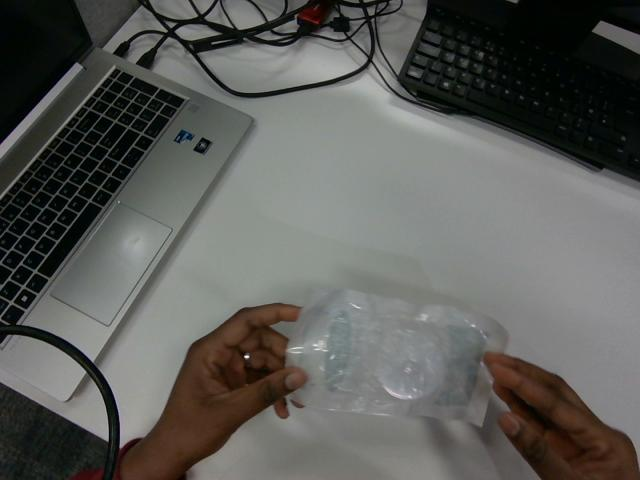gallipot: (286, 290, 507, 424)
